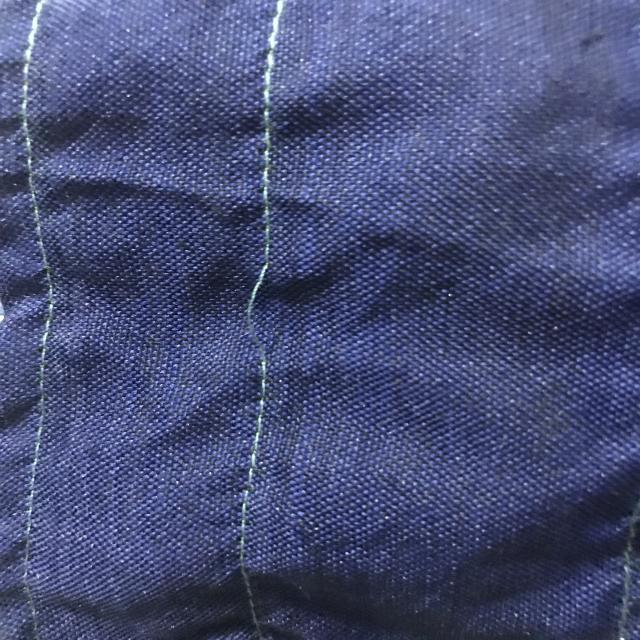good: (229, 411, 266, 521)
skip: (232, 244, 292, 376)
